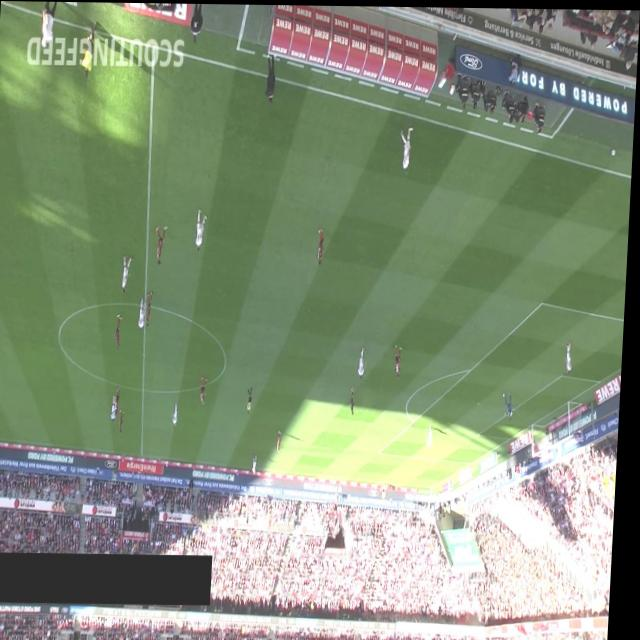player: (399, 125, 414, 173), (197, 207, 209, 252), (156, 224, 169, 264), (124, 254, 134, 292), (360, 344, 370, 378), (396, 342, 405, 376), (318, 226, 326, 263), (567, 339, 576, 371), (506, 391, 517, 417), (113, 392, 122, 422), (117, 313, 124, 349), (148, 290, 155, 324), (141, 296, 148, 330), (117, 386, 124, 414), (203, 376, 210, 404), (430, 422, 437, 446), (175, 401, 182, 425), (353, 385, 359, 413), (122, 408, 128, 432), (280, 428, 286, 452), (256, 453, 261, 474)
referee: (79, 20, 96, 78), (249, 385, 256, 413), (385, 479, 392, 501)
